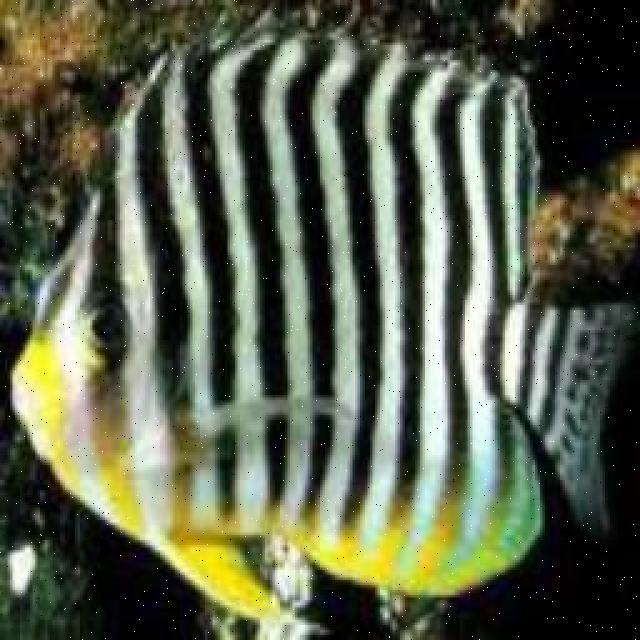fish: (8, 0, 635, 624)
